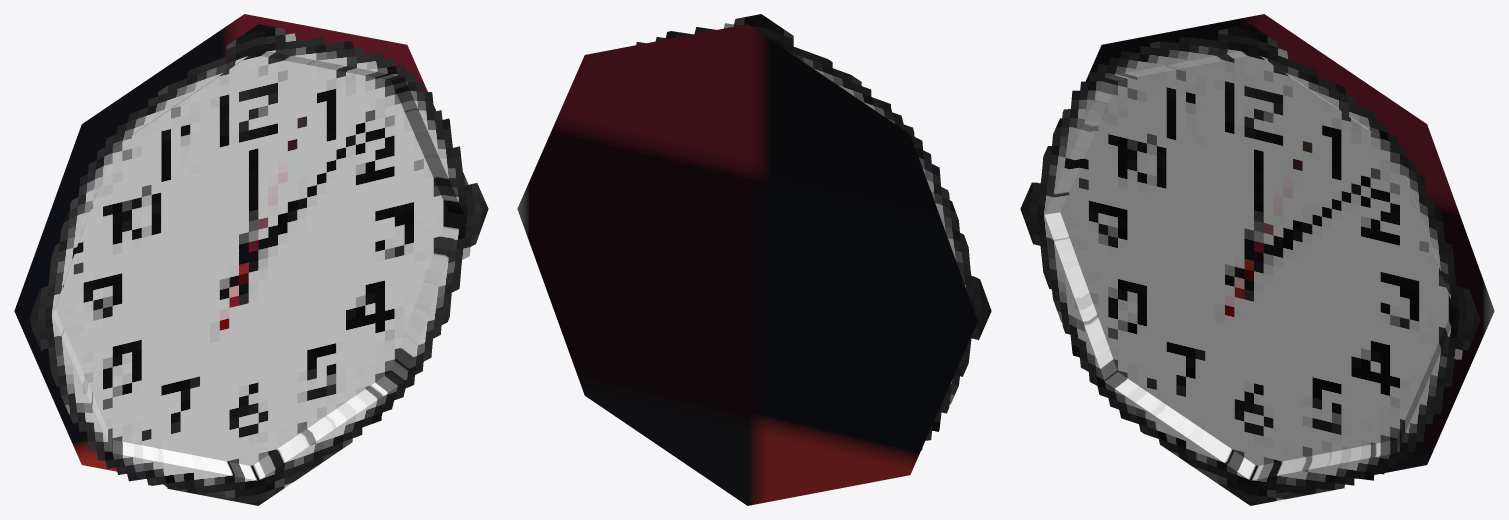
Rendered from Reloj.fbx.
The picture shows the model from 3 angles, left to right: view 1: azimuth 30°, elevation 25°; view 2: azimuth 150°, elevation 25°; view 3: azimuth 330°, elevation 25°; orthographic projection.
Parts seen in each view (by area): view 1: Circle; view 2: Circle; view 3: Circle.
Boxes of the visible parts, bbox=[...] form: Circle: bbox=[14, 14, 488, 505]; Circle: bbox=[517, 14, 991, 505]; Circle: bbox=[1020, 14, 1494, 505].
Size of the model in its own units: 200 by 200 by 10.41.
Materials: 1 (1 with a texture image).
